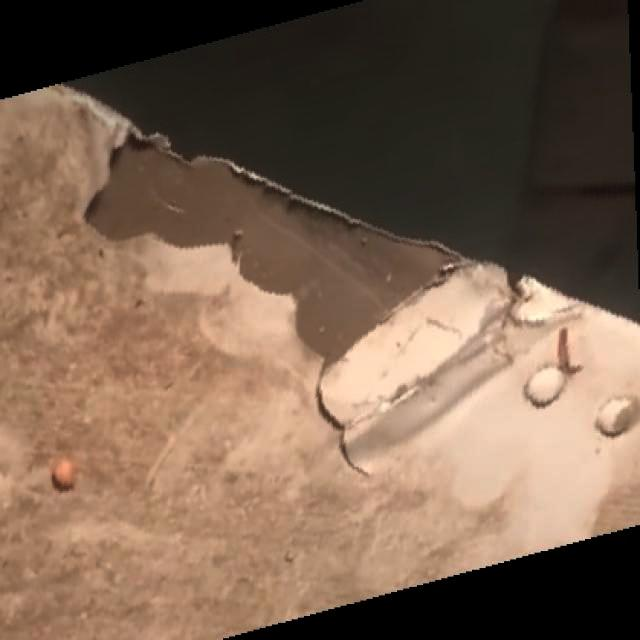crack: (316, 385, 380, 474)
